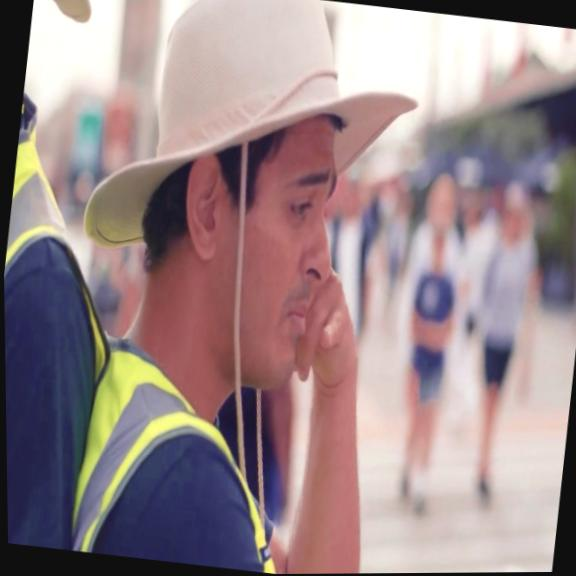safety_vest: (1, 86, 143, 552), (65, 325, 316, 576)
